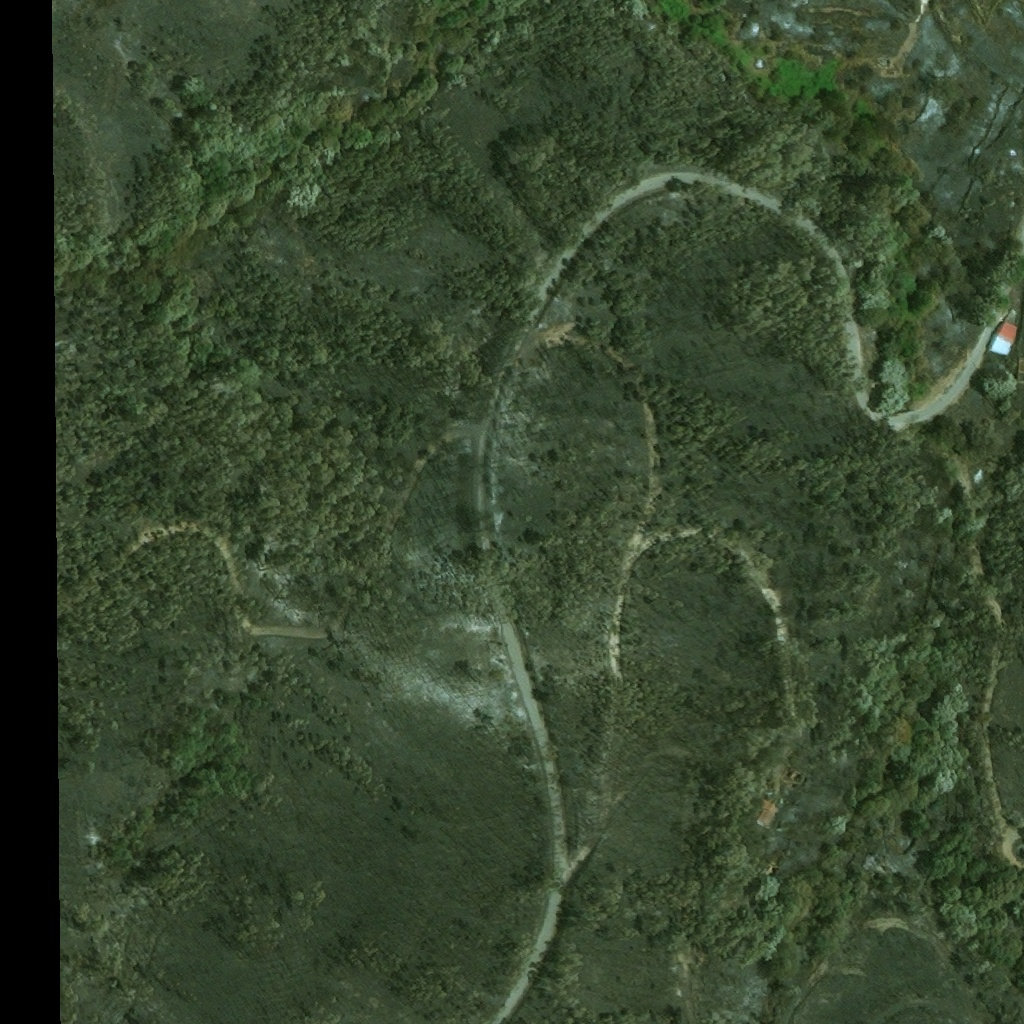0 no-damage: (985, 319, 1021, 360), (755, 795, 780, 826)
